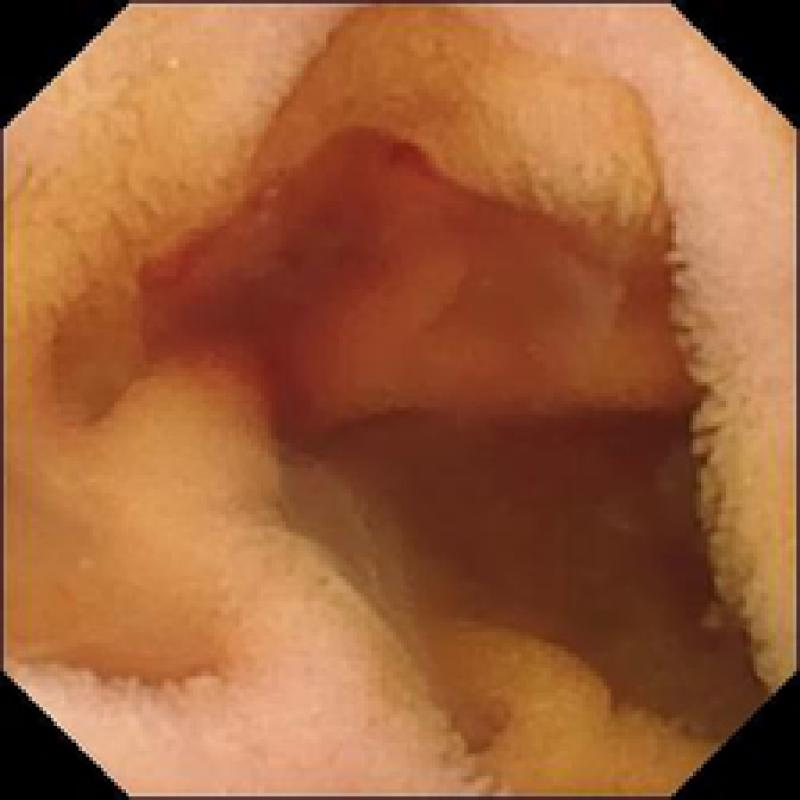bleeding: (128, 125, 628, 439)
